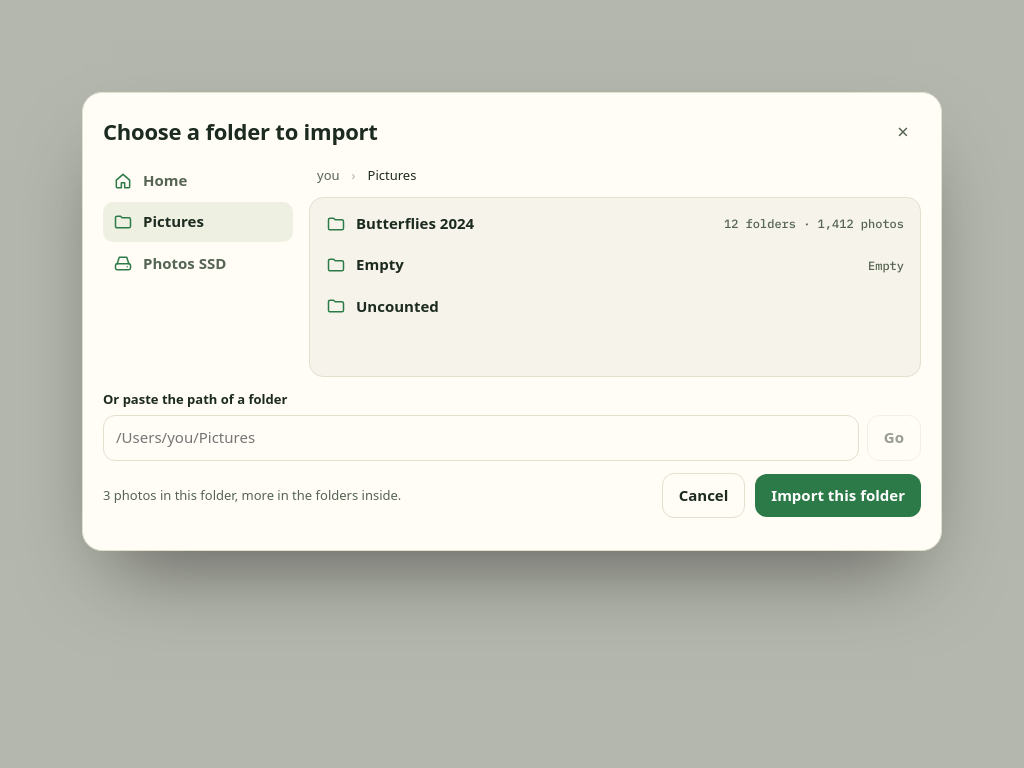
Scenario: opening a folder lists it and moves focus to its first folder; the path goes back up
Click the button "Butterflies 2024 12 folders · 1,412 photos" at (415, 223), box 316,204 -> 914,244
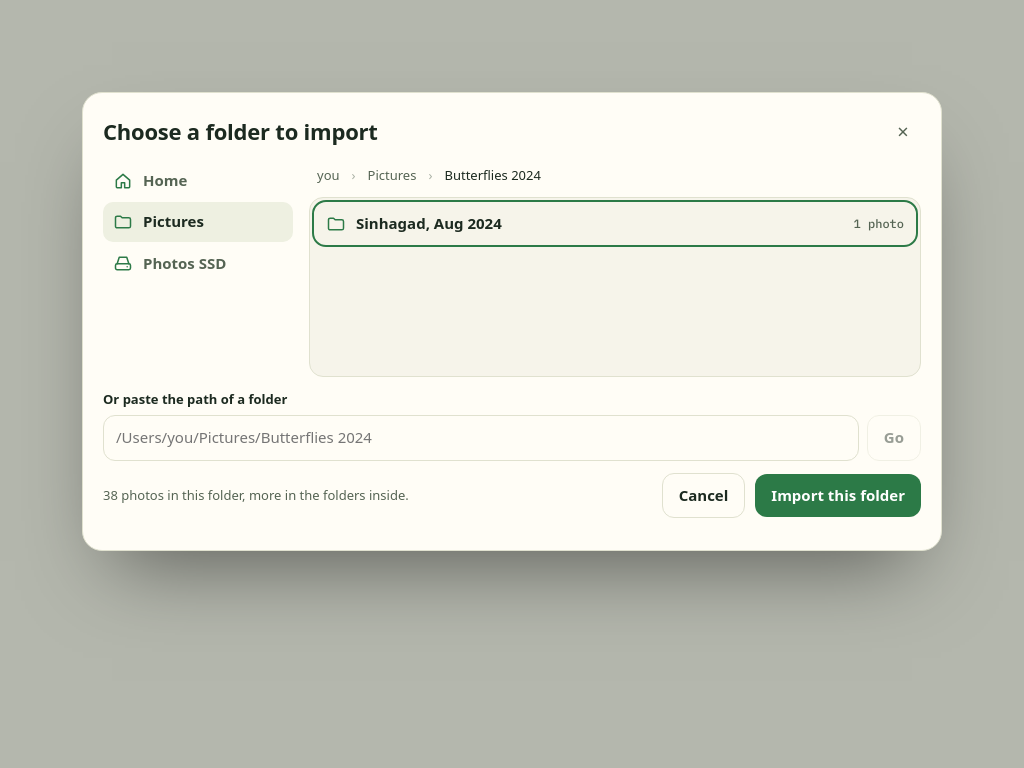
Click the button "Pictures" next to "Butterflies 2024" at (392, 175), box 360,161 -> 424,189
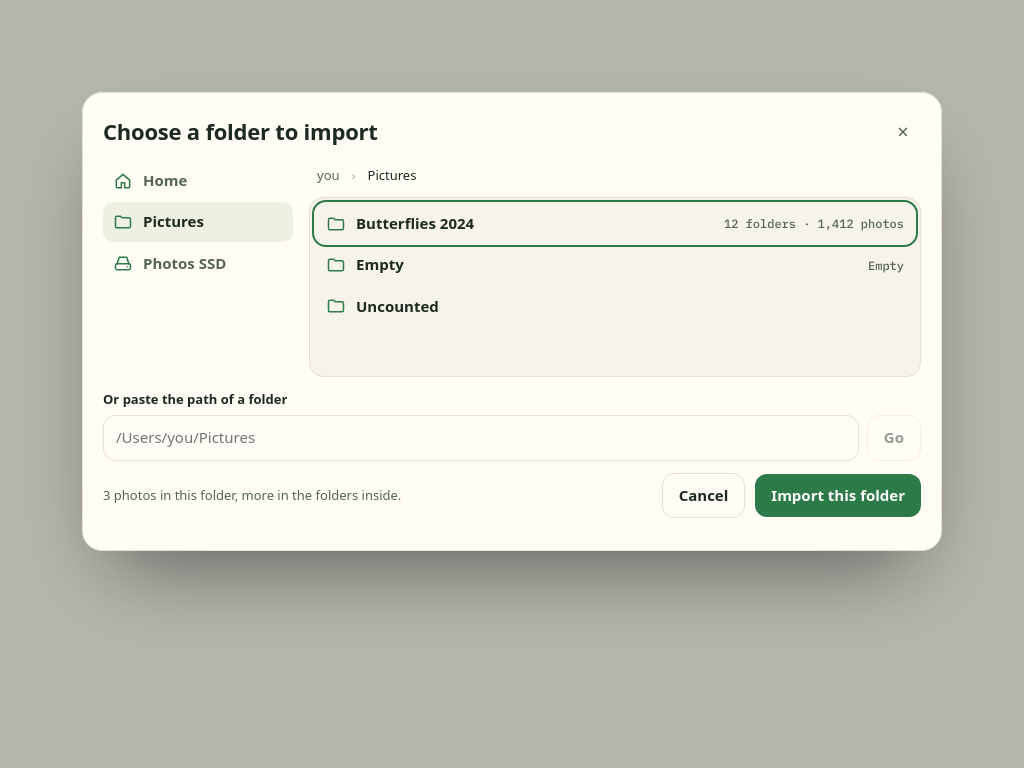
Check: the list named "Folders in Pictures" is shown, box 309,197 -> 921,377
